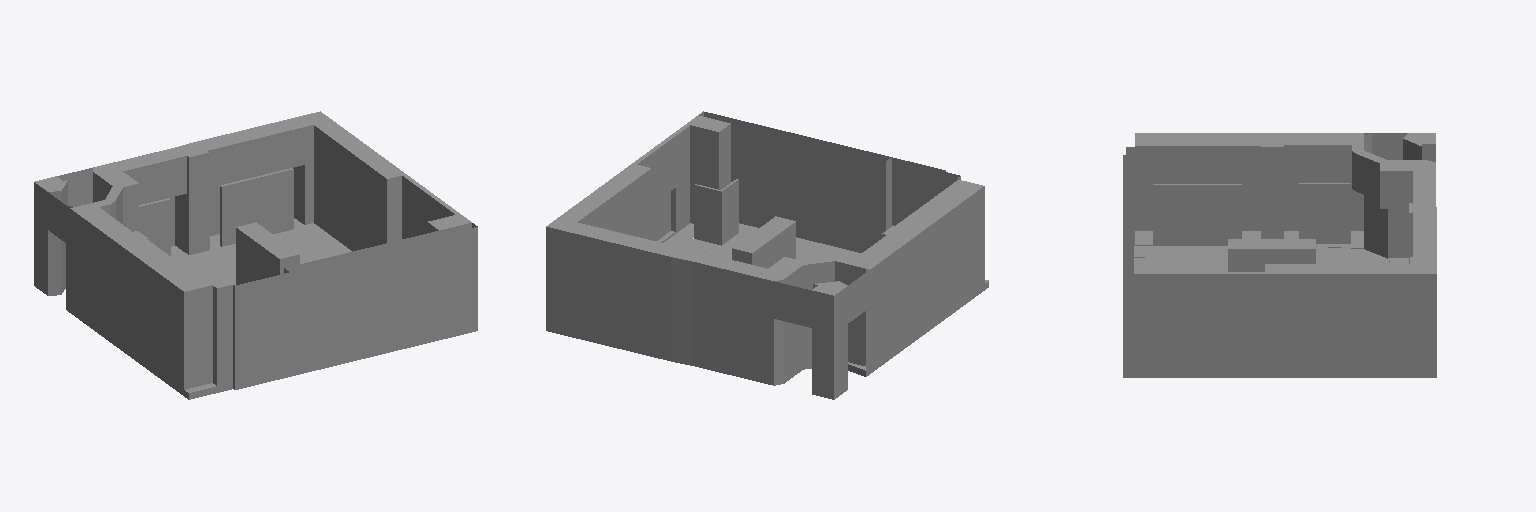
Rendered from gallery.obj.
3 views of the same model, side by side, from view 1: azimuth 30°, elevation 25°; view 2: azimuth 150°, elevation 25°; view 3: azimuth 270°, elevation 25° (orthographic).
Visible parts, largest first — view 1: SketchUp.034_ID396; view 2: SketchUp.034_ID396; view 3: SketchUp.034_ID396.
Boxes of the visible parts, box(x1,y1,x2,y2) form: SketchUp.034_ID396: box(34, 111, 477, 399); SketchUp.034_ID396: box(546, 111, 988, 399); SketchUp.034_ID396: box(1123, 133, 1436, 377).
Size of the model in its own units: 12.18 by 4.23 by 11.52.